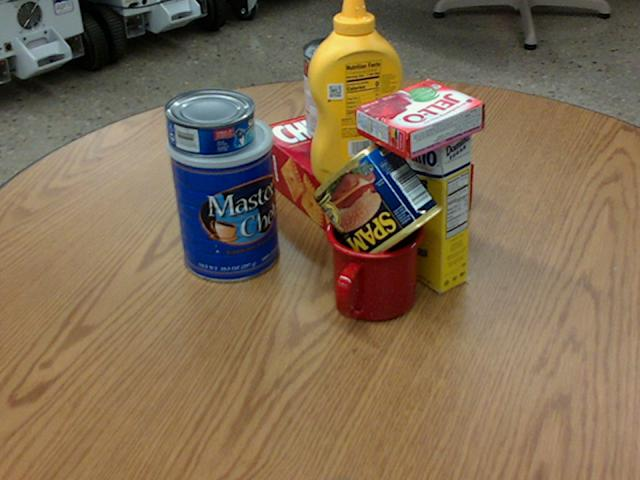cracker_box: (255, 97, 471, 252)
gelatin_box: (355, 79, 484, 159)
large_marker: (231, 110, 254, 211)
master_chef_can: (166, 111, 280, 281)
mug: (324, 206, 423, 323)
mustard_bottle: (308, 0, 403, 186)
potted_meat_can: (312, 137, 444, 268)
sugar_box: (378, 94, 472, 295)
tomato_soup_can: (301, 37, 361, 142)
tuna_fish_can: (163, 87, 254, 155)
